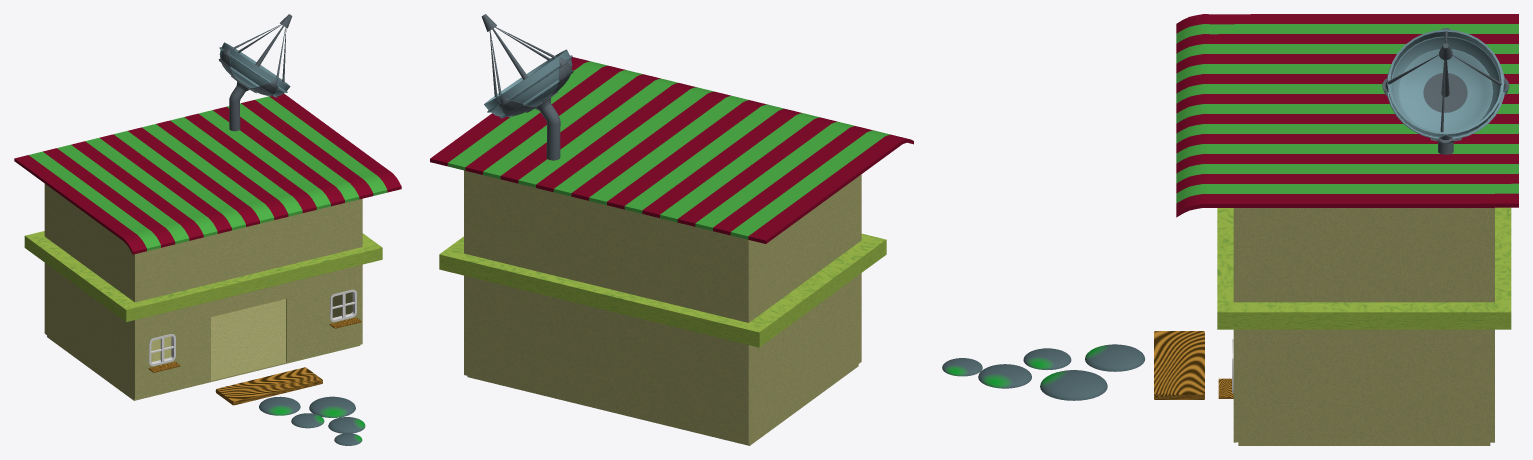
The model's file is drjhouse.fbx.
3 renders of one model, left to right at view 1: azimuth 30°, elevation 25°; view 2: azimuth 150°, elevation 25°; view 3: azimuth 270°, elevation 25°, orthographic. The views are drawn at different scales.
Parts seen in each view (by area): view 1: Cube, Cube.001, Cube.004, Cube.005, Plane.002, Sphere, Sphere.012, Sphere.007, Sphere.006, Sphere.009, Cube.037, Cube.002 (+1 smaller); view 2: Cube, Cube.001, Cube.004, Cube.005, Sphere, Sphere.012; view 3: Cube, Cube.001, Cube.004, Cube.005, Sphere.012, Plane.002, Sphere.007, Sphere.001, Sphere.006, Sphere.009, Sphere, Sphere.010 (+1 smaller).
Part boxes in pixels (x1,y1,x2,y2): Cube: (44, 184, 362, 400); Cube.001: (14, 93, 401, 254); Cube.004: (29, 96, 387, 251); Cube.005: (24, 231, 382, 321); Plane.002: (215, 367, 322, 405); Sphere: (218, 24, 286, 131); Sphere.012: (219, 42, 290, 97); Sphere.007: (309, 396, 355, 417); Sphere.006: (259, 396, 300, 415); Sphere.009: (328, 417, 365, 433); Cube.037: (149, 334, 175, 366); Cube.002: (330, 289, 356, 321); Cube: (464, 170, 861, 445); Cube.001: (430, 57, 913, 243); Cube.004: (447, 61, 890, 239); Cube.005: (439, 233, 886, 347); Sphere: (489, 27, 573, 160); Sphere.012: (484, 49, 572, 118); Cube: (1233, 208, 1494, 445); Cube.001: (1176, 14, 1518, 217); Cube.004: (1176, 24, 1518, 203); Cube.005: (1217, 207, 1511, 329); Sphere.012: (1387, 29, 1504, 139); Plane.002: (1154, 331, 1204, 399); Sphere.007: (1040, 370, 1107, 400); Sphere.001: (1423, 60, 1467, 112); Sphere.006: (1085, 344, 1144, 371); Sphere.009: (978, 364, 1031, 388); Sphere: (1382, 28, 1509, 154); Sphere.010: (1023, 348, 1071, 369).
Bounding box in the file's own units: 697 × 692 × 895.
9 materials, 8 textured.
